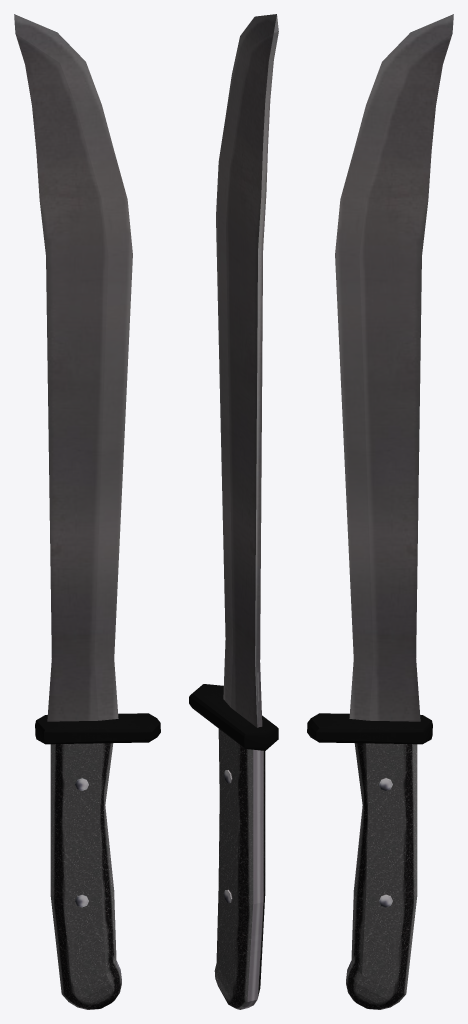
Rendered from Machete.fbx.
The picture shows the model from 3 angles, left to right: view 1: azimuth 90°, elevation 25°; view 2: azimuth 210°, elevation 25°; view 3: azimuth 270°, elevation 25°; orthographic projection. The views are drawn at different scales.
Visible parts, largest first — view 1: pCylinder7; view 2: pCylinder7; view 3: pCylinder7.
Boxes of the visible parts, bbox=[...] form: pCylinder7: bbox=[14, 14, 160, 1009]; pCylinder7: bbox=[189, 14, 278, 1009]; pCylinder7: bbox=[307, 14, 453, 1009].
Size of the model in its own units: 0.0962 by 2.75 by 0.3672.
